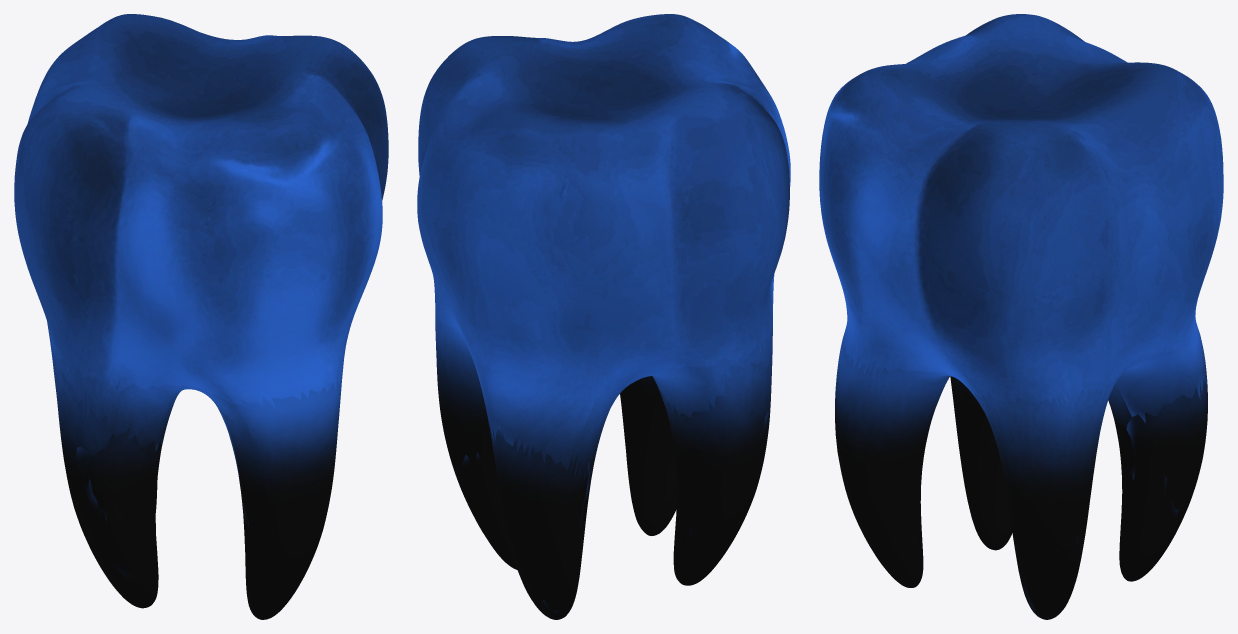
Rendered from tooth.glb.
3 views of the same model, side by side, from view 1: azimuth 30°, elevation 25°; view 2: azimuth 150°, elevation 25°; view 3: azimuth 270°, elevation 25° (orthographic).
Parts seen in each view (by area): view 1: tripo_node_f1a732f5-5e91-4379-b533-96e4faa36fbd; view 2: tripo_node_f1a732f5-5e91-4379-b533-96e4faa36fbd; view 3: tripo_node_f1a732f5-5e91-4379-b533-96e4faa36fbd.
Part boxes in pixels (box(x1,y1,x2,y2)): tripo_node_f1a732f5-5e91-4379-b533-96e4faa36fbd: box(14, 14, 388, 619); tripo_node_f1a732f5-5e91-4379-b533-96e4faa36fbd: box(417, 14, 790, 619); tripo_node_f1a732f5-5e91-4379-b533-96e4faa36fbd: box(819, 14, 1223, 619).
Size of the model in its own units: 0.6976 by 0.979 by 0.7023.
1 material, 1 textured.
